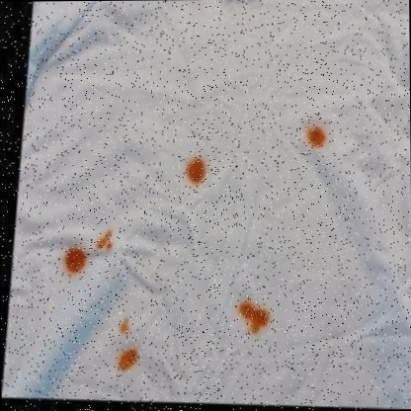kimchi: (238, 299, 278, 336), (112, 344, 144, 374), (184, 154, 210, 188), (298, 122, 333, 146), (65, 244, 85, 274), (97, 229, 115, 252), (119, 317, 134, 334)
